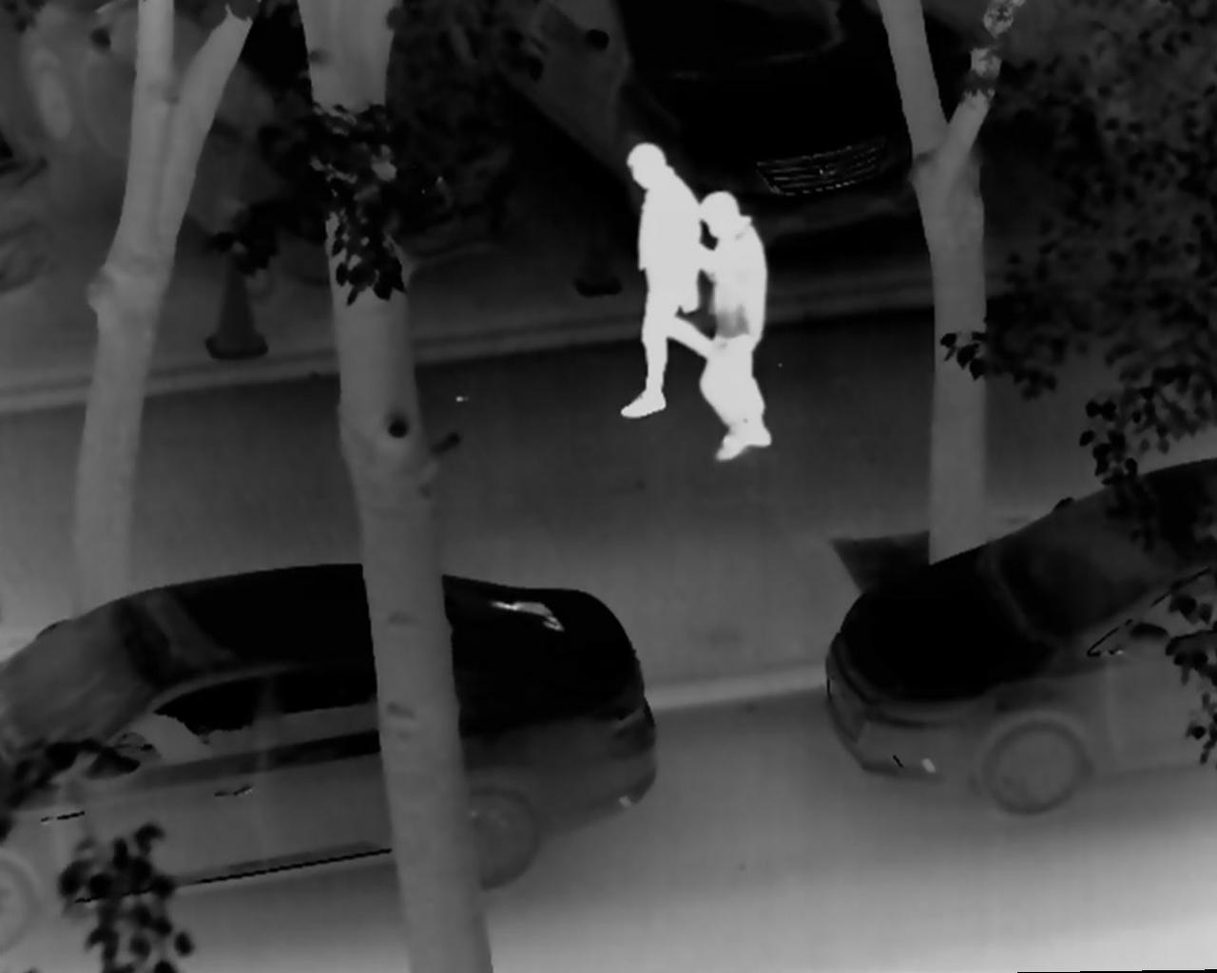person: (607, 137, 723, 425), (682, 182, 785, 465)
